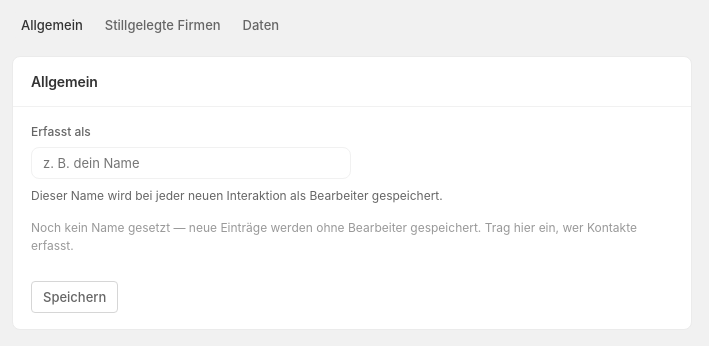
Test: Einstellungen › clear-all button is disabled on mount
Click the button "Daten".
click(261, 25)  # box [234,12,288,38]
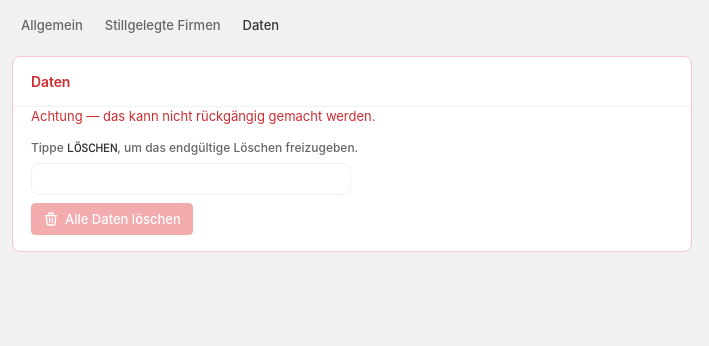
Expected: the button "Alle Daten löschen" is disabled, [31,202,193,234]
